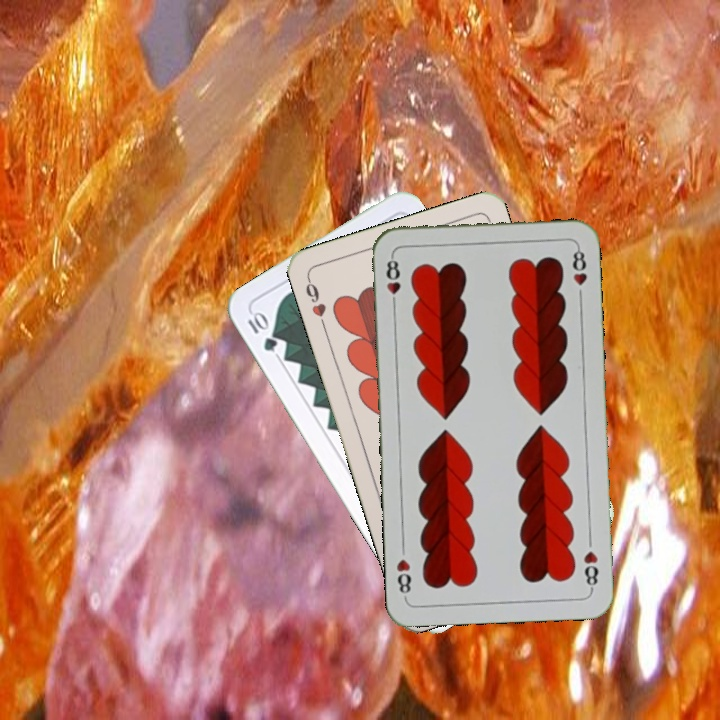G10: (243, 306, 280, 354)
H8: (382, 251, 403, 311), (579, 547, 601, 593)
H9: (301, 273, 329, 331)
